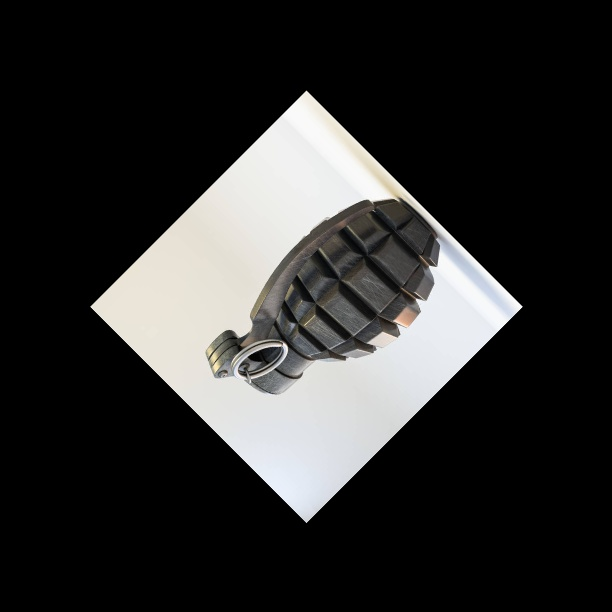e1: (205, 197, 440, 399)
